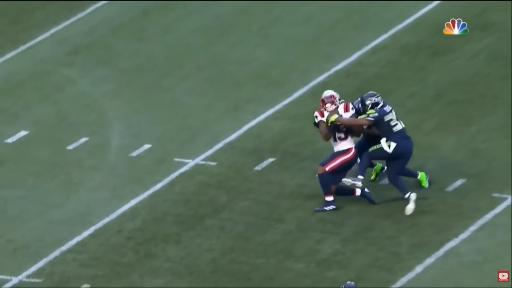Helmet: (360, 92, 383, 113), (321, 90, 343, 111), (353, 98, 363, 116)
Jersey: (366, 102, 409, 140), (331, 127, 355, 151)
Player: (335, 92, 428, 214), (314, 90, 375, 211), (356, 127, 381, 161)
